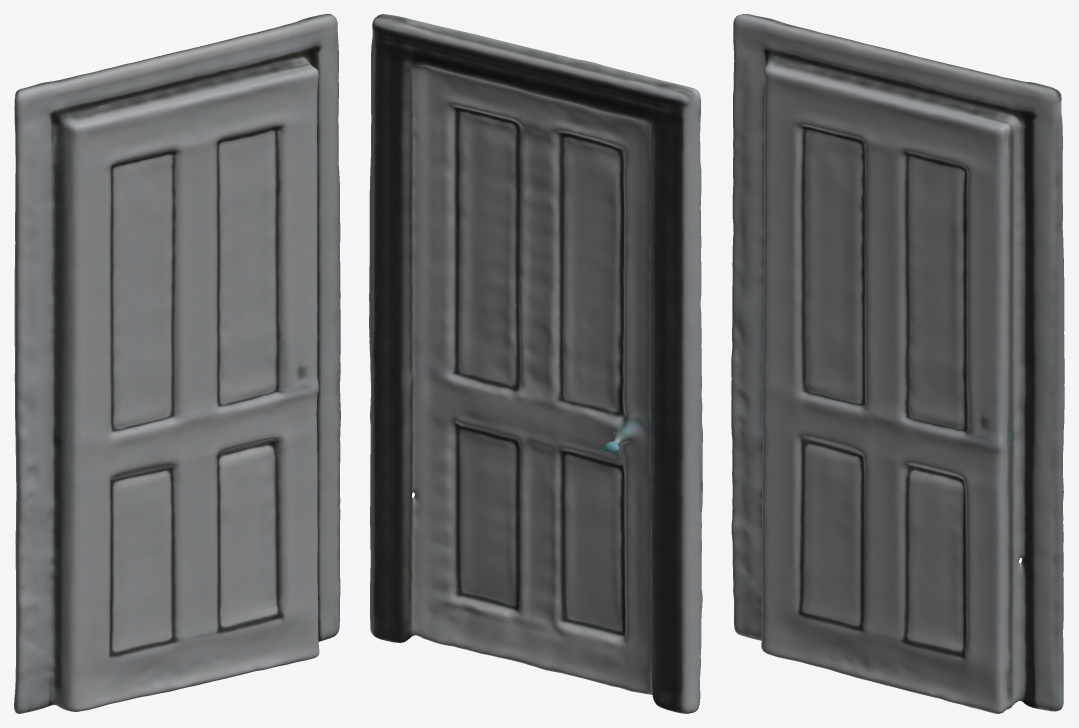
File: 5290f153330a_door__3d_asset_0_gl.fbx
3 views of the same model, side by side, from view 1: azimuth 30°, elevation 25°; view 2: azimuth 150°, elevation 25°; view 3: azimuth 330°, elevation 25° (orthographic).
Parts seen in each view (by area): view 1: high_poly; view 2: high_poly; view 3: high_poly.
Part boxes in pixels (left/top/right/bottom): high_poly: left=14, top=14, right=340, bottom=713; high_poly: left=369, top=14, right=702, bottom=713; high_poly: left=731, top=14, right=1064, bottom=713.
Size of the model in its own units: 54.93 by 100 by 9.92.
